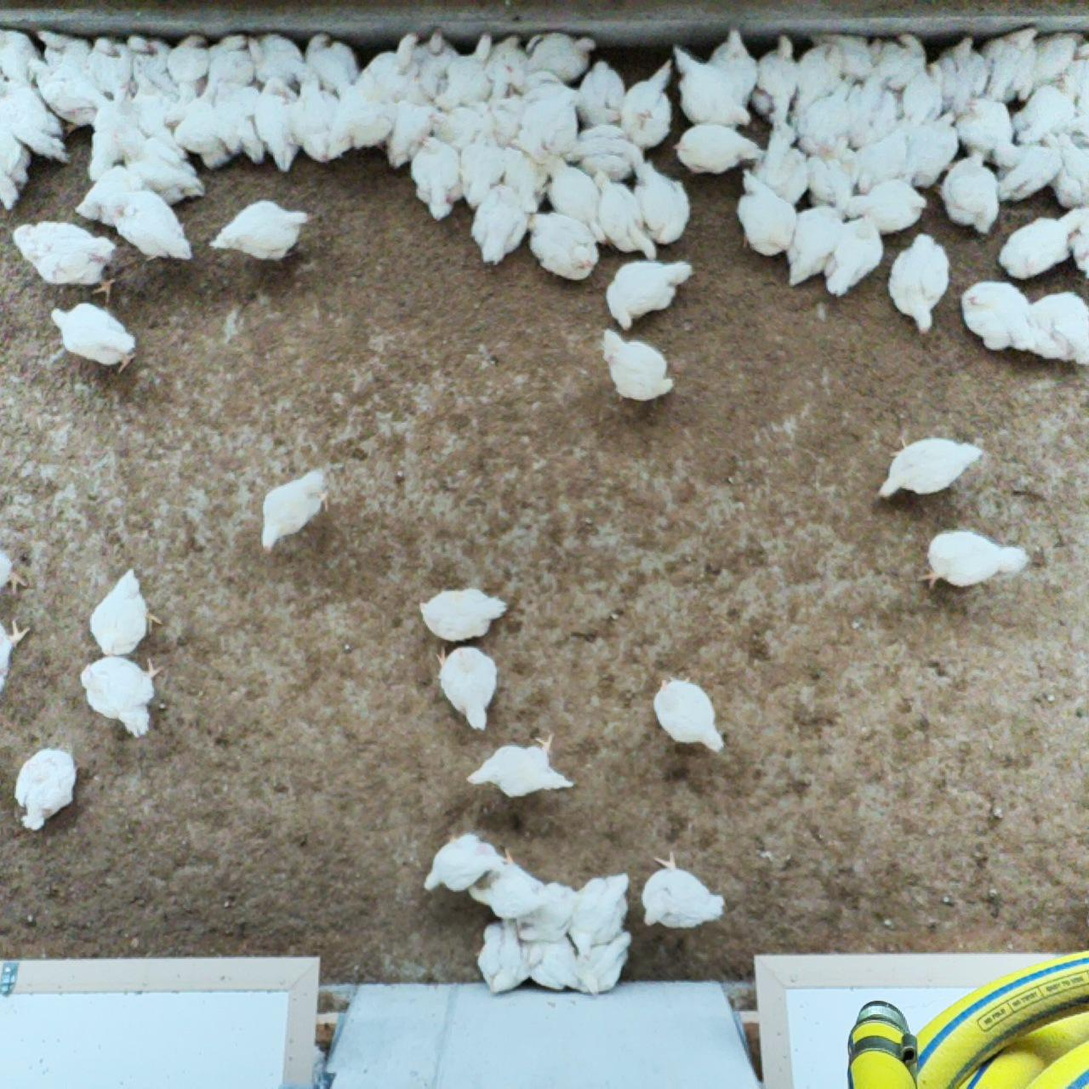chicken: (9, 217, 120, 304), (915, 525, 1035, 594), (670, 43, 755, 134), (466, 732, 583, 798), (878, 431, 986, 501), (78, 654, 162, 744), (256, 461, 337, 553), (208, 193, 315, 262), (85, 567, 165, 659), (105, 184, 192, 268), (622, 153, 694, 253), (560, 870, 639, 961), (42, 300, 140, 372), (887, 228, 952, 336), (637, 853, 727, 931), (606, 254, 697, 331), (591, 169, 663, 266), (115, 128, 206, 204), (28, 55, 110, 138), (649, 672, 731, 755), (430, 30, 504, 120), (596, 321, 678, 402), (537, 151, 608, 243), (0, 73, 71, 164), (746, 111, 811, 210), (433, 640, 499, 737), (467, 844, 548, 923), (732, 165, 799, 259), (998, 209, 1084, 282), (802, 124, 872, 213), (524, 207, 603, 284), (201, 76, 269, 165), (747, 26, 806, 128), (1014, 25, 1087, 107), (968, 24, 1040, 107), (462, 181, 528, 270), (15, 743, 81, 832), (287, 73, 348, 168), (83, 97, 146, 187), (420, 830, 511, 892), (168, 99, 241, 176), (75, 162, 158, 229), (403, 25, 468, 109), (782, 200, 846, 285), (670, 123, 768, 178), (797, 77, 860, 162), (560, 123, 647, 184), (417, 586, 509, 643), (822, 217, 884, 301), (961, 279, 1030, 354), (839, 62, 901, 145), (952, 95, 1017, 174), (341, 74, 403, 156), (513, 25, 597, 85), (410, 127, 461, 224), (1024, 285, 1089, 361), (850, 122, 915, 198), (909, 105, 966, 191), (994, 136, 1065, 205), (932, 31, 991, 114), (625, 60, 678, 150), (839, 177, 930, 229), (254, 68, 299, 173), (27, 24, 103, 86), (790, 39, 845, 124), (473, 914, 530, 996), (504, 100, 583, 159), (383, 88, 439, 171), (703, 24, 762, 102), (517, 925, 584, 993), (354, 32, 419, 101), (113, 82, 193, 138), (816, 30, 888, 91), (862, 25, 931, 88), (416, 96, 495, 149), (300, 31, 360, 100), (477, 25, 528, 105), (197, 33, 256, 101), (456, 140, 510, 214), (0, 20, 51, 98), (576, 923, 632, 993), (516, 882, 582, 941), (84, 34, 138, 106), (1042, 125, 1089, 207), (500, 140, 552, 214), (478, 80, 530, 153), (0, 117, 39, 214), (244, 32, 304, 92), (1013, 85, 1071, 147), (900, 60, 953, 126), (123, 32, 174, 100), (576, 61, 625, 131), (165, 26, 211, 100), (0, 613, 36, 693), (519, 63, 579, 110), (1052, 42, 1089, 102), (1065, 205, 1089, 283), (0, 546, 32, 598), (1064, 88, 1089, 146)
